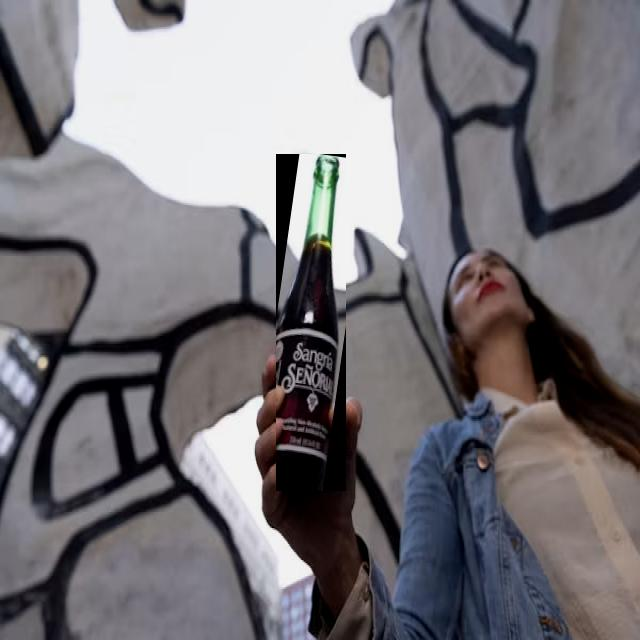Bottle: (277, 154, 345, 491)
